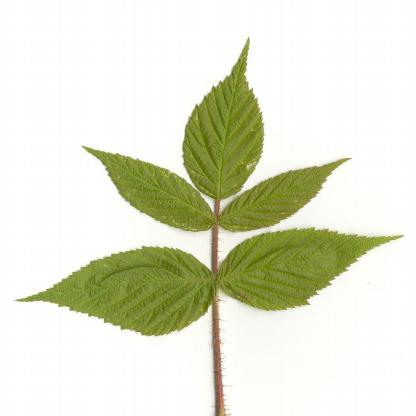raspberry leaf: (10, 241, 223, 337), (217, 229, 402, 312), (180, 32, 268, 202), (72, 140, 218, 235), (221, 150, 357, 232)
